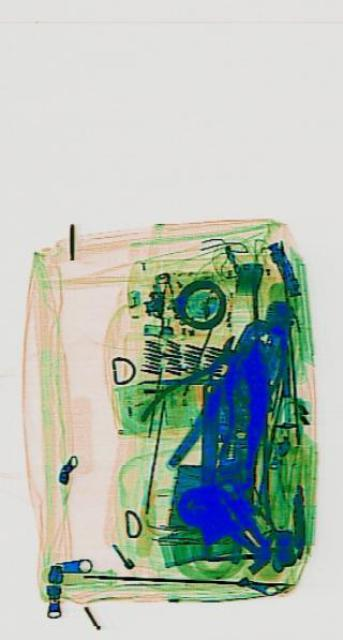Pliers: (167, 284, 296, 528), (138, 290, 265, 508)
